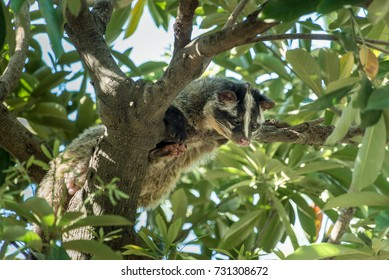Civet: (153, 71, 269, 157)
